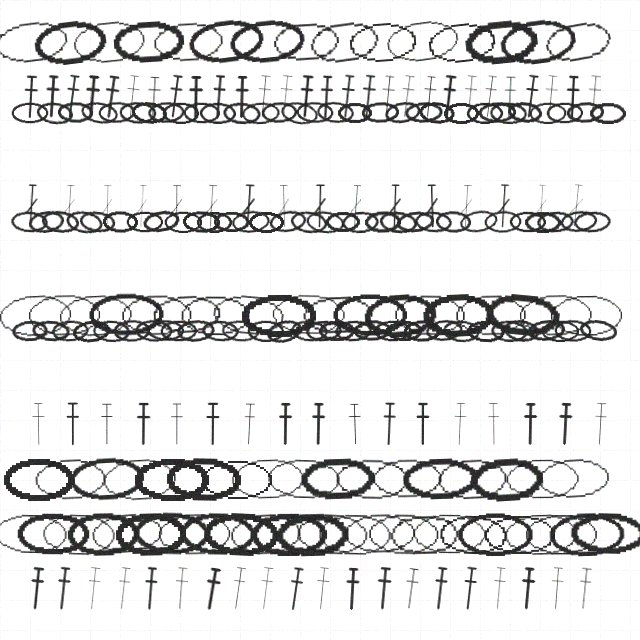chain: (539, 14, 618, 70), (186, 15, 267, 68), (497, 15, 578, 68), (382, 15, 462, 68), (304, 15, 383, 68), (227, 16, 308, 67), (31, 16, 110, 68), (423, 16, 501, 68), (69, 16, 148, 67), (209, 290, 288, 340), (462, 16, 539, 67), (483, 290, 561, 340), (88, 509, 165, 558), (0, 15, 71, 68), (56, 291, 134, 339), (100, 455, 178, 503), (345, 17, 421, 66), (150, 18, 227, 66), (362, 291, 439, 339), (68, 455, 145, 503), (535, 455, 613, 502), (111, 18, 187, 66), (468, 455, 544, 503), (32, 455, 109, 502), (434, 455, 511, 502), (202, 510, 279, 557), (294, 510, 371, 557), (269, 18, 344, 66), (0, 291, 75, 339), (265, 456, 343, 502), (40, 511, 118, 557), (179, 511, 257, 557), (316, 511, 394, 557), (548, 511, 626, 557), (149, 291, 225, 338), (227, 510, 303, 557), (229, 456, 306, 502), (401, 456, 478, 502), (502, 511, 579, 557), (421, 291, 496, 338), (133, 511, 211, 556), (299, 292, 375, 338), (299, 456, 375, 502), (26, 292, 103, 337), (88, 292, 165, 337), (333, 456, 410, 501), (156, 511, 233, 556), (274, 511, 349, 557), (386, 511, 461, 557), (436, 511, 511, 557), (270, 292, 346, 337), (392, 292, 468, 337), (453, 292, 529, 337), (517, 292, 593, 337), (165, 456, 241, 501), (342, 511, 418, 556), (548, 293, 625, 337), (250, 512, 327, 556), (457, 512, 534, 556), (523, 512, 600, 556), (370, 456, 445, 501), (66, 511, 141, 556), (240, 293, 316, 337), (133, 457, 209, 501), (198, 457, 274, 501), (504, 457, 580, 501), (411, 512, 487, 556), (481, 512, 557, 556), (119, 292, 193, 337), (114, 511, 188, 556), (366, 511, 440, 556), (178, 293, 253, 337), (332, 293, 407, 337), (16, 512, 91, 556), (2, 457, 76, 501), (0, 511, 70, 557), (569, 511, 640, 556), (264, 316, 305, 346), (79, 99, 120, 127), (279, 99, 320, 127), (64, 208, 105, 236), (458, 208, 499, 235), (383, 99, 423, 126), (141, 208, 181, 235), (268, 208, 308, 235), (578, 317, 618, 344), (27, 208, 66, 235), (502, 317, 541, 344), (289, 209, 329, 235), (305, 209, 345, 235), (378, 209, 418, 235), (395, 209, 435, 235), (71, 318, 111, 344), (35, 100, 74, 126), (78, 209, 117, 235), (40, 209, 80, 234), (559, 209, 599, 234), (526, 318, 566, 343), (130, 100, 169, 125), (316, 100, 355, 125), (231, 209, 270, 234), (176, 318, 215, 343), (418, 100, 456, 125), (506, 100, 544, 125), (425, 318, 463, 343), (222, 101, 261, 125), (241, 101, 280, 125), (489, 101, 528, 125), (10, 210, 49, 234), (341, 210, 380, 234), (414, 210, 453, 234), (536, 210, 575, 234), (573, 210, 612, 234), (31, 319, 70, 343), (92, 319, 131, 343), (221, 319, 260, 343), (334, 319, 373, 343), (466, 319, 505, 343), (490, 319, 529, 343), (11, 319, 49, 343), (51, 319, 89, 343), (201, 319, 239, 343), (290, 319, 328, 343), (305, 319, 343, 343), (442, 319, 480, 343), (404, 101, 443, 124), (119, 101, 157, 124), (147, 101, 185, 124), (296, 101, 334, 124), (361, 101, 399, 124), (478, 101, 516, 124), (566, 101, 604, 124), (182, 210, 220, 233), (484, 210, 522, 233), (353, 319, 391, 342), (403, 319, 441, 342), (554, 319, 592, 342), (57, 101, 94, 124), (98, 101, 135, 124), (261, 101, 298, 124), (102, 210, 139, 233), (364, 210, 401, 233), (435, 210, 472, 233), (113, 319, 150, 342), (135, 319, 172, 342), (147, 319, 184, 342), (11, 102, 49, 124), (466, 102, 504, 124), (529, 102, 567, 124), (164, 211, 202, 233), (374, 320, 412, 342), (541, 320, 579, 342), (162, 102, 199, 124), (183, 102, 220, 124), (199, 102, 236, 124), (443, 102, 480, 124), (546, 102, 583, 124), (589, 102, 626, 124), (126, 211, 163, 233), (196, 211, 233, 233), (213, 211, 250, 233), (248, 211, 285, 233), (509, 211, 546, 233), (524, 211, 561, 233), (160, 320, 197, 342), (247, 320, 284, 342), (318, 320, 355, 342), (386, 320, 423, 342), (337, 102, 373, 124), (325, 211, 361, 233)
double: (567, 183, 586, 228), (23, 184, 40, 228), (61, 184, 78, 228), (203, 184, 220, 228), (240, 184, 257, 228), (347, 184, 364, 228), (458, 184, 475, 228), (495, 184, 512, 228), (533, 184, 550, 228), (134, 184, 150, 228), (276, 184, 292, 228), (312, 184, 328, 228), (387, 184, 403, 228), (424, 184, 440, 228), (169, 184, 184, 228), (100, 184, 114, 228)
half_double: (200, 566, 224, 612), (100, 74, 123, 120), (284, 566, 307, 612), (227, 566, 250, 611), (61, 74, 83, 119), (164, 74, 186, 119), (396, 74, 418, 119), (479, 74, 501, 119), (520, 74, 542, 119), (255, 566, 277, 611), (400, 566, 422, 611), (122, 74, 143, 119), (275, 74, 296, 119), (337, 74, 358, 119), (358, 74, 379, 119), (419, 74, 440, 119), (438, 74, 459, 119), (26, 566, 47, 611), (53, 566, 74, 611), (83, 566, 104, 611), (113, 566, 134, 611), (312, 566, 333, 611), (430, 566, 451, 611), (459, 566, 480, 611), (574, 566, 595, 611), (82, 74, 102, 119), (209, 74, 229, 119), (254, 74, 274, 119), (296, 74, 316, 119), (378, 74, 398, 119), (460, 74, 480, 119), (541, 74, 561, 119), (584, 74, 604, 119), (171, 566, 191, 611), (374, 566, 394, 611), (489, 566, 509, 611), (547, 566, 567, 611), (43, 74, 62, 119), (141, 566, 160, 611), (518, 566, 537, 611), (21, 75, 40, 119), (144, 75, 163, 119), (317, 75, 336, 119), (500, 75, 519, 119), (563, 75, 582, 119), (591, 402, 610, 446), (343, 567, 362, 611), (233, 75, 251, 119), (240, 402, 258, 446), (380, 402, 398, 446), (451, 402, 469, 446), (556, 402, 574, 446), (187, 75, 204, 119), (30, 402, 47, 446), (64, 402, 81, 446), (98, 402, 115, 446), (135, 402, 152, 446), (168, 402, 185, 446), (204, 402, 221, 446), (277, 402, 294, 446), (310, 402, 327, 446), (346, 402, 363, 446), (414, 402, 431, 446), (485, 402, 502, 446), (522, 402, 538, 446)
